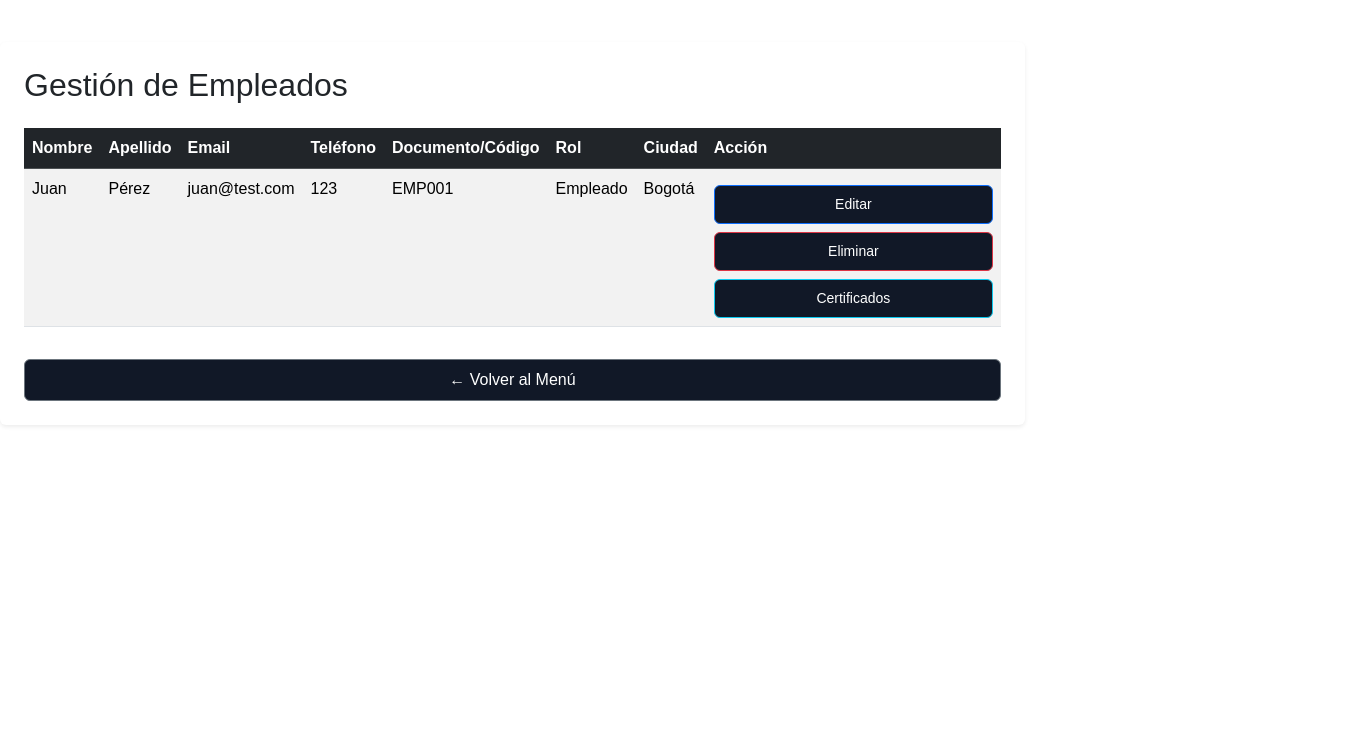
Test: guarda cambios y actualiza nombre
Click the button "Editar" at (853, 205), box [714, 185, 993, 224]
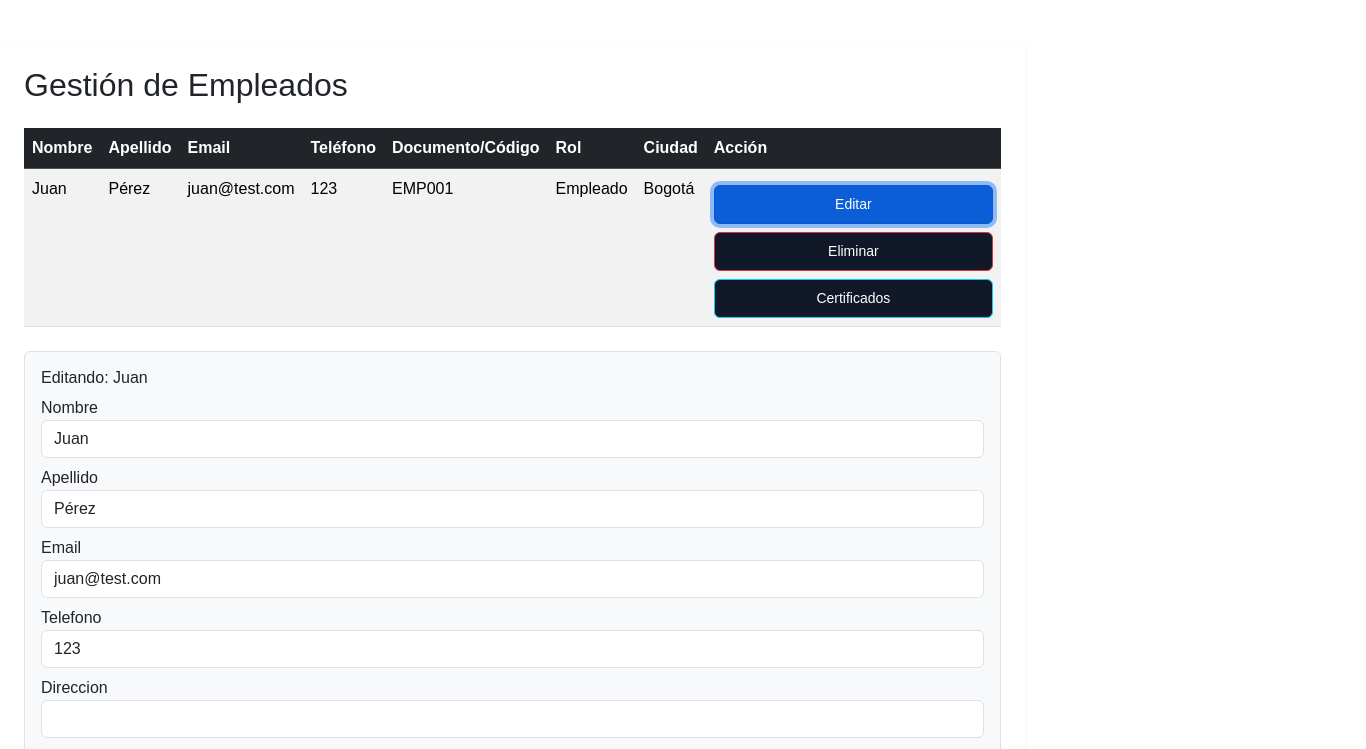
Replace the text in the field labelled "Nombre" with "Juan Actualizado" at (512, 439), box [41, 420, 984, 458]
(page scrolled)
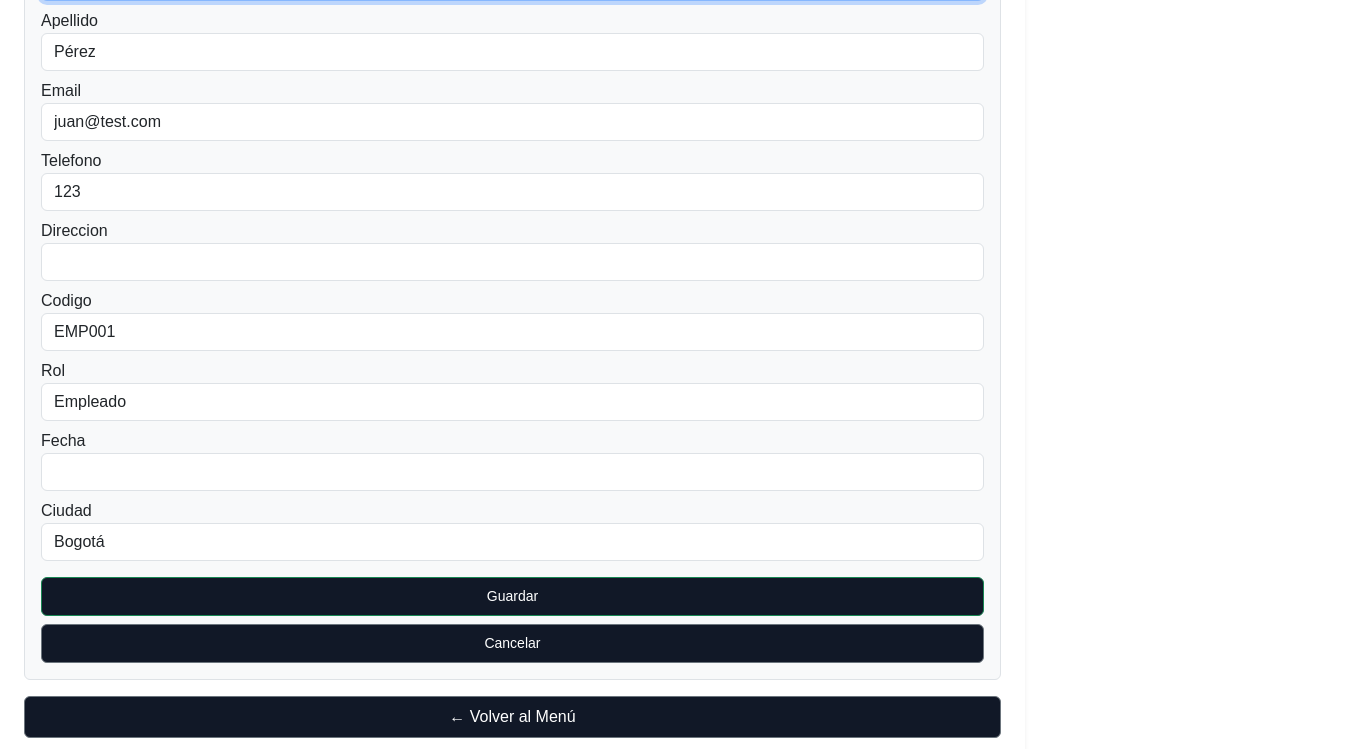
Click the button "Guardar" at (512, 596), box [41, 577, 984, 616]
(page scrolled)
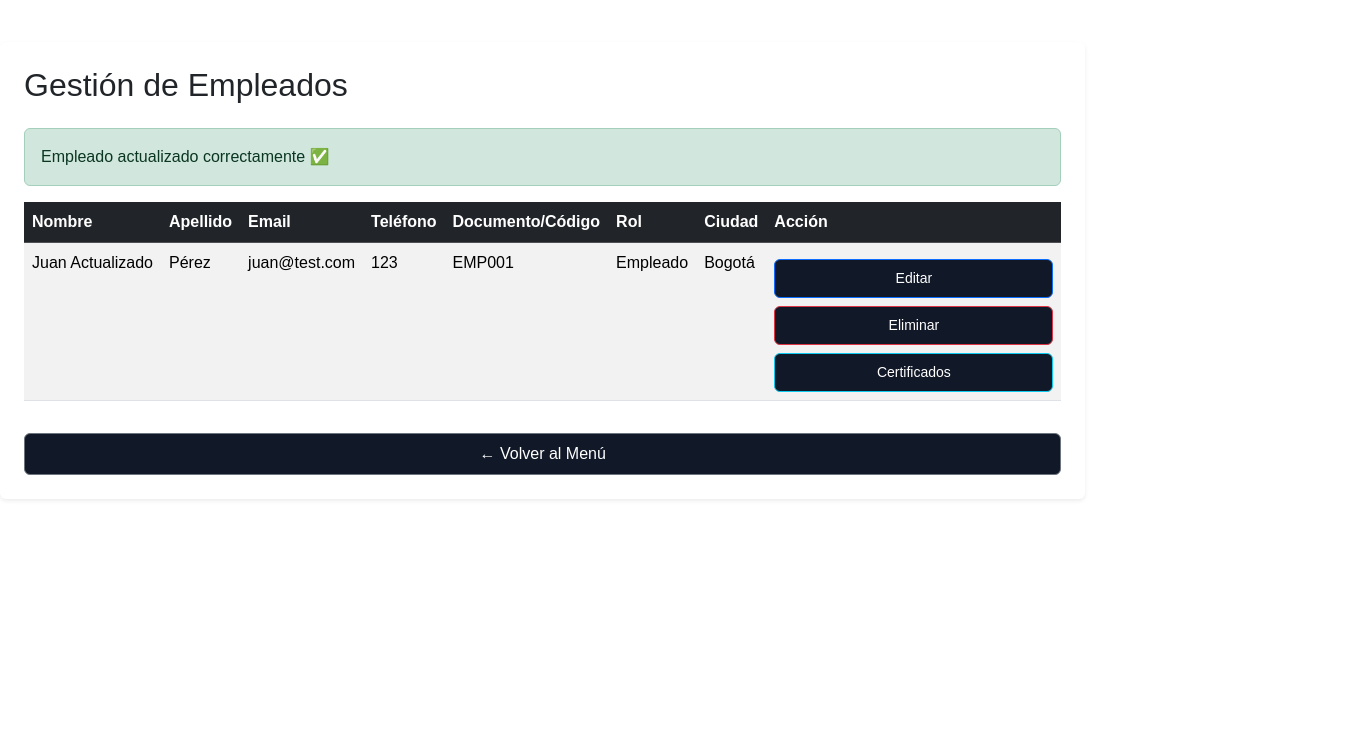
Result: the text "Empleado actualizado correctamente ✅" is shown at [24, 128, 1061, 186]
Result: the text "Juan Actualizado" is shown at [24, 243, 161, 401]
